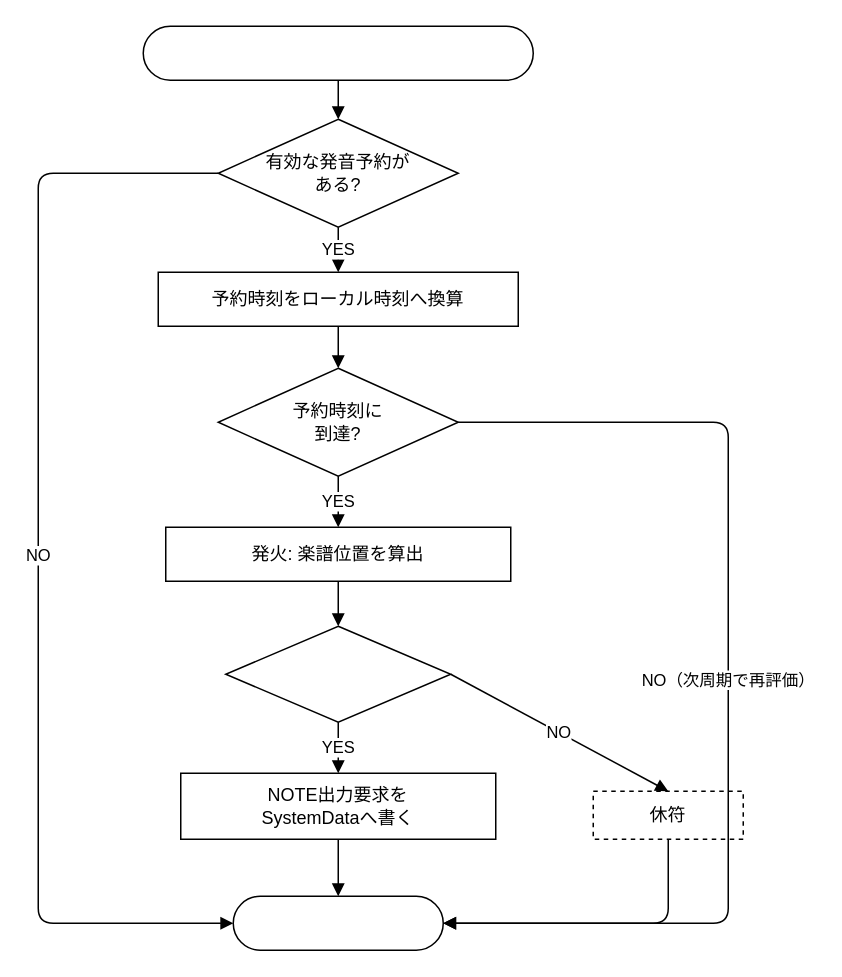
Some shapes in this 842 by 977 pixel diagram are drawn without their labels. The centre of each missing label's shape, as x and y in pixels:
applyPattern（楽器・発火判定）: pixel 337 52
演奏区間?: pixel 337 673
終了: pixel 337 922
